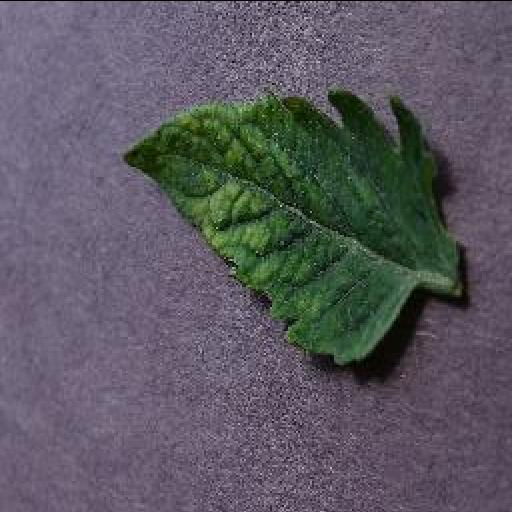Mosaic Virus: (120, 88, 464, 360)
